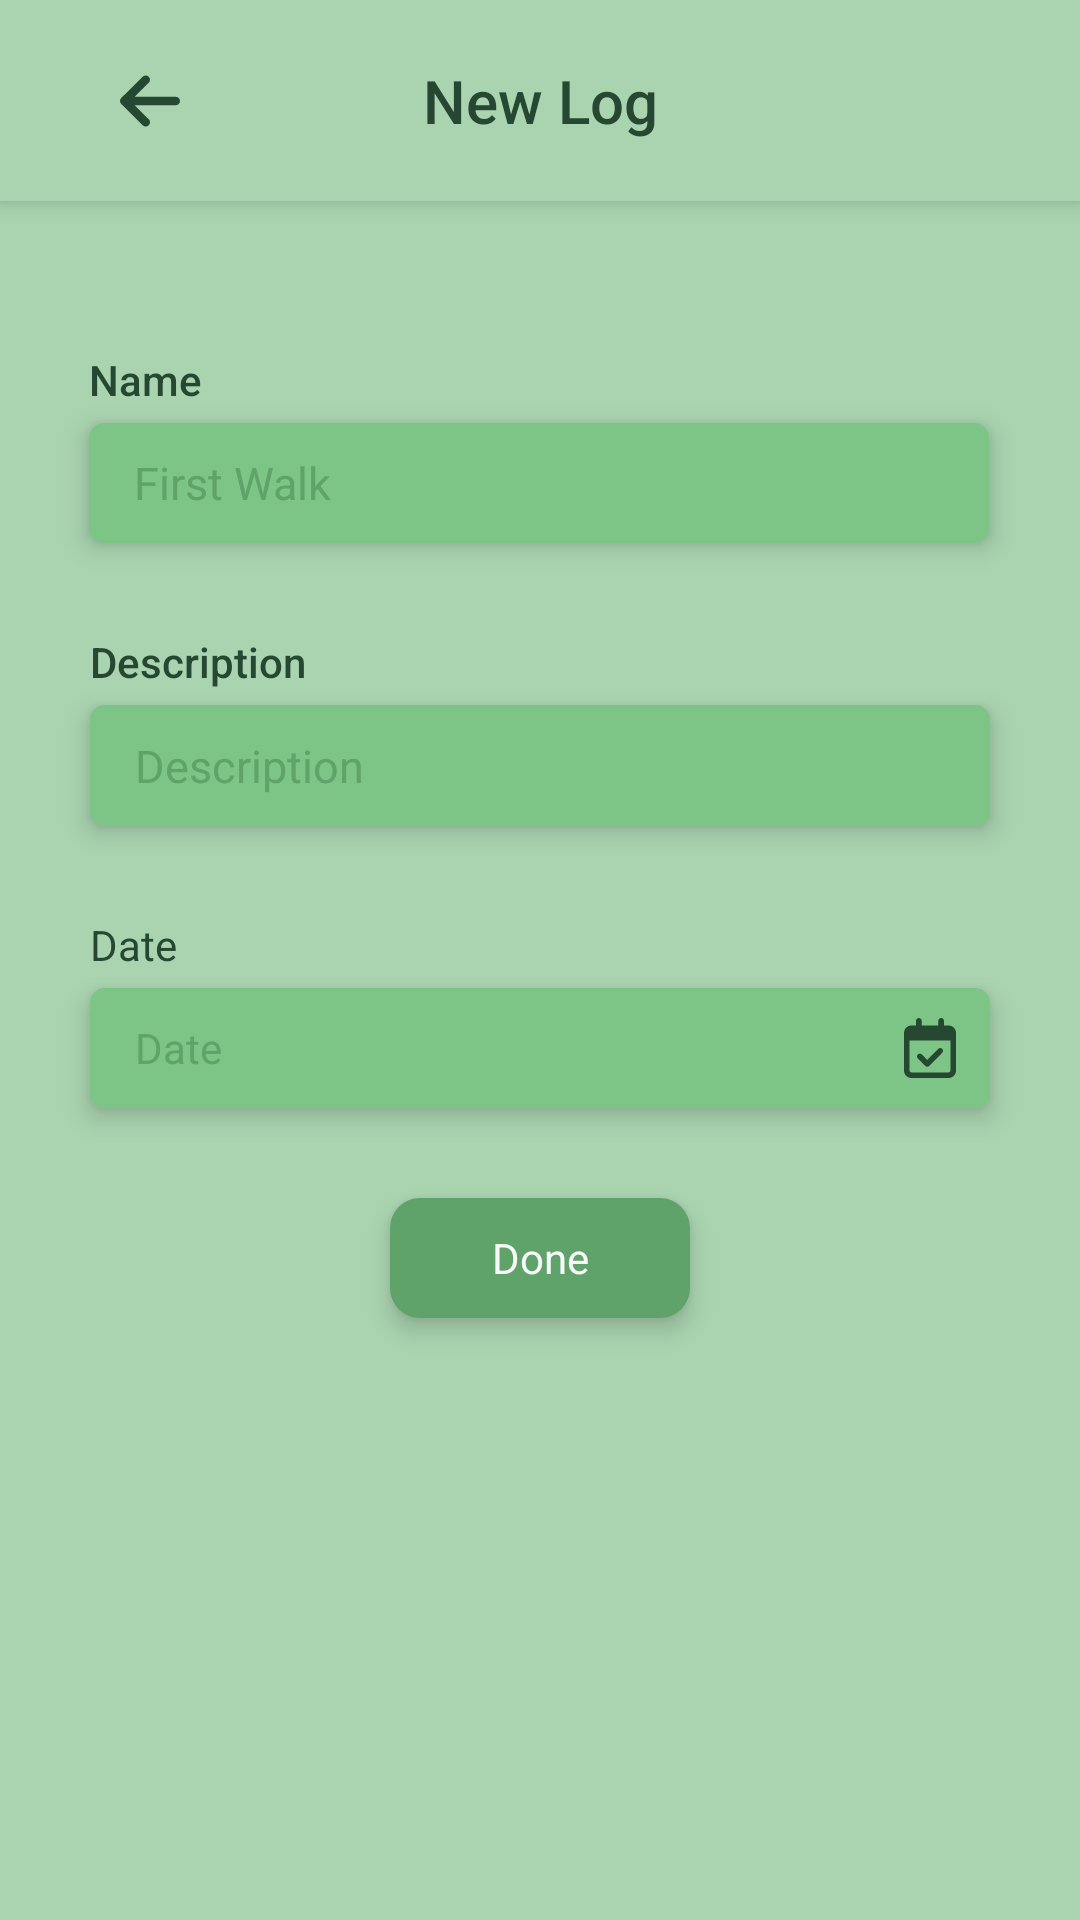

Icons on this 1080px×1920px Android screen, each with the point to tap as (x=x, y=y):
arrow left: (x=150, y=101)
calendar check: (x=930, y=1048)
